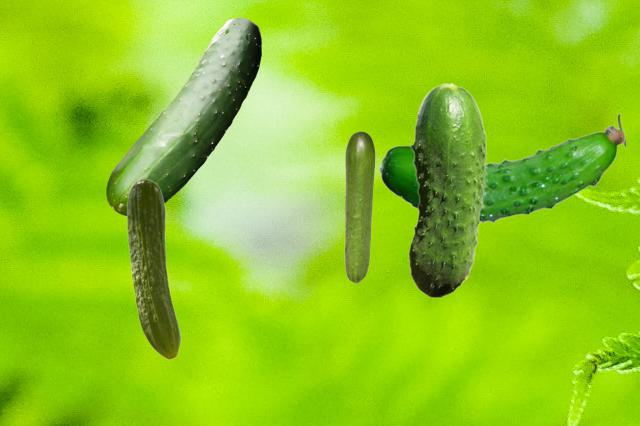cucumber: (106, 17, 260, 215), (377, 113, 624, 224), (408, 82, 487, 297), (126, 178, 180, 359), (344, 131, 374, 282)
